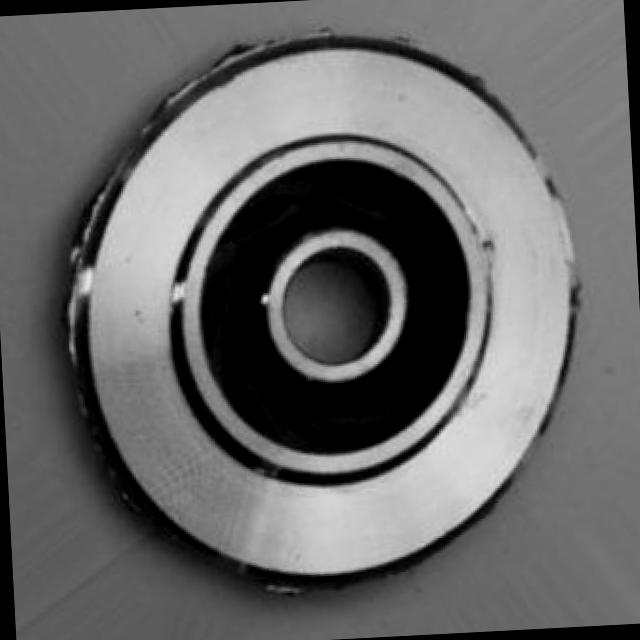Defect: (55, 211, 102, 281)
